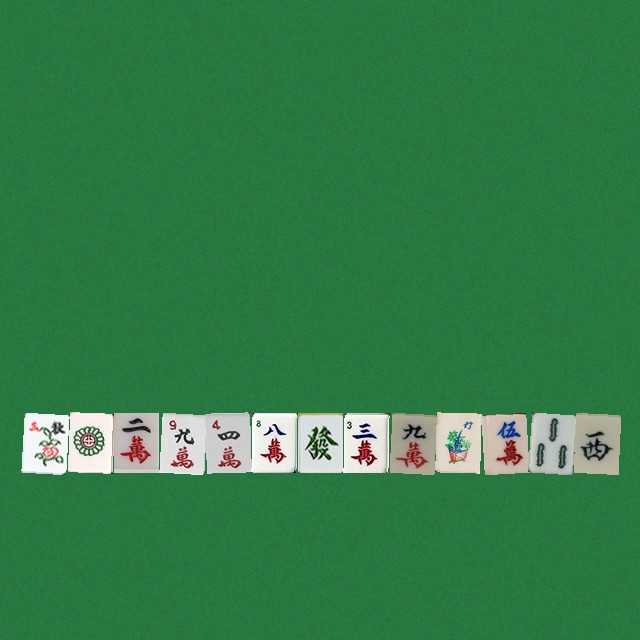tile: (21, 412, 66, 472), (67, 412, 112, 472), (113, 412, 158, 472), (159, 412, 204, 472), (205, 412, 250, 472), (251, 412, 296, 472), (297, 412, 342, 472), (343, 412, 388, 472), (389, 412, 434, 472), (435, 412, 480, 472), (481, 412, 526, 472), (527, 412, 572, 472), (573, 412, 618, 472)
